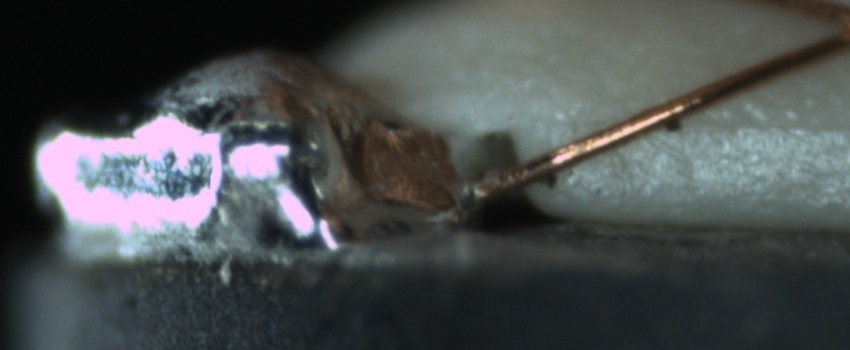DL: (551, 91, 846, 155)
